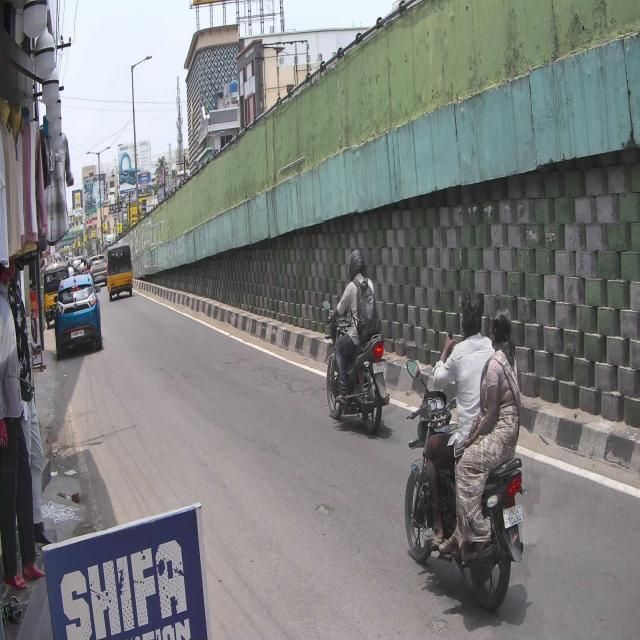double_rider: (405, 290, 523, 610)
single_rider: (327, 247, 391, 431)
